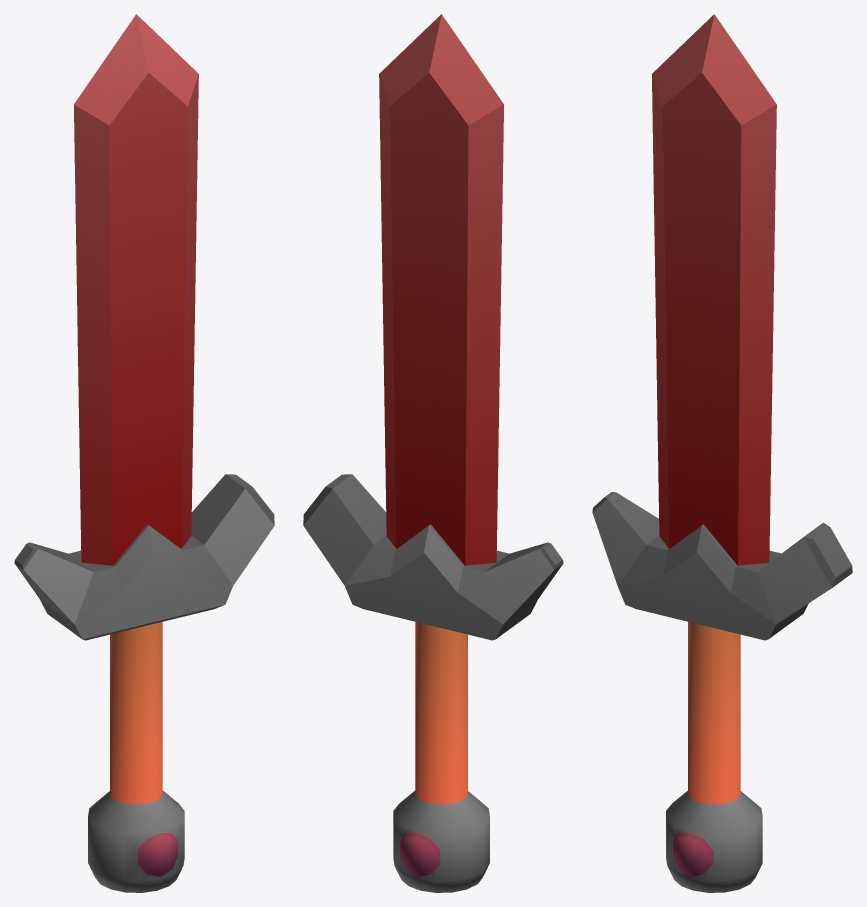
Rendered from sword-by-minipoly-B1yrrN3ImH.glb.
The picture shows the model from 3 angles, left to right: view 1: azimuth 30°, elevation 25°; view 2: azimuth 150°, elevation 25°; view 3: azimuth 330°, elevation 25°; orthographic projection.
Visible parts, largest first — view 1: Sword1; view 2: Sword1; view 3: Sword1.
Boxes of the visible parts, left/top/right/bottom form: Sword1: left=14, top=14, right=274, bottom=892; Sword1: left=303, top=14, right=563, bottom=892; Sword1: left=592, top=14, right=852, bottom=892.
Size of the model in its own units: 0.4359 by 1.45 by 0.1645.
Materials: 1 (1 with a texture image).
